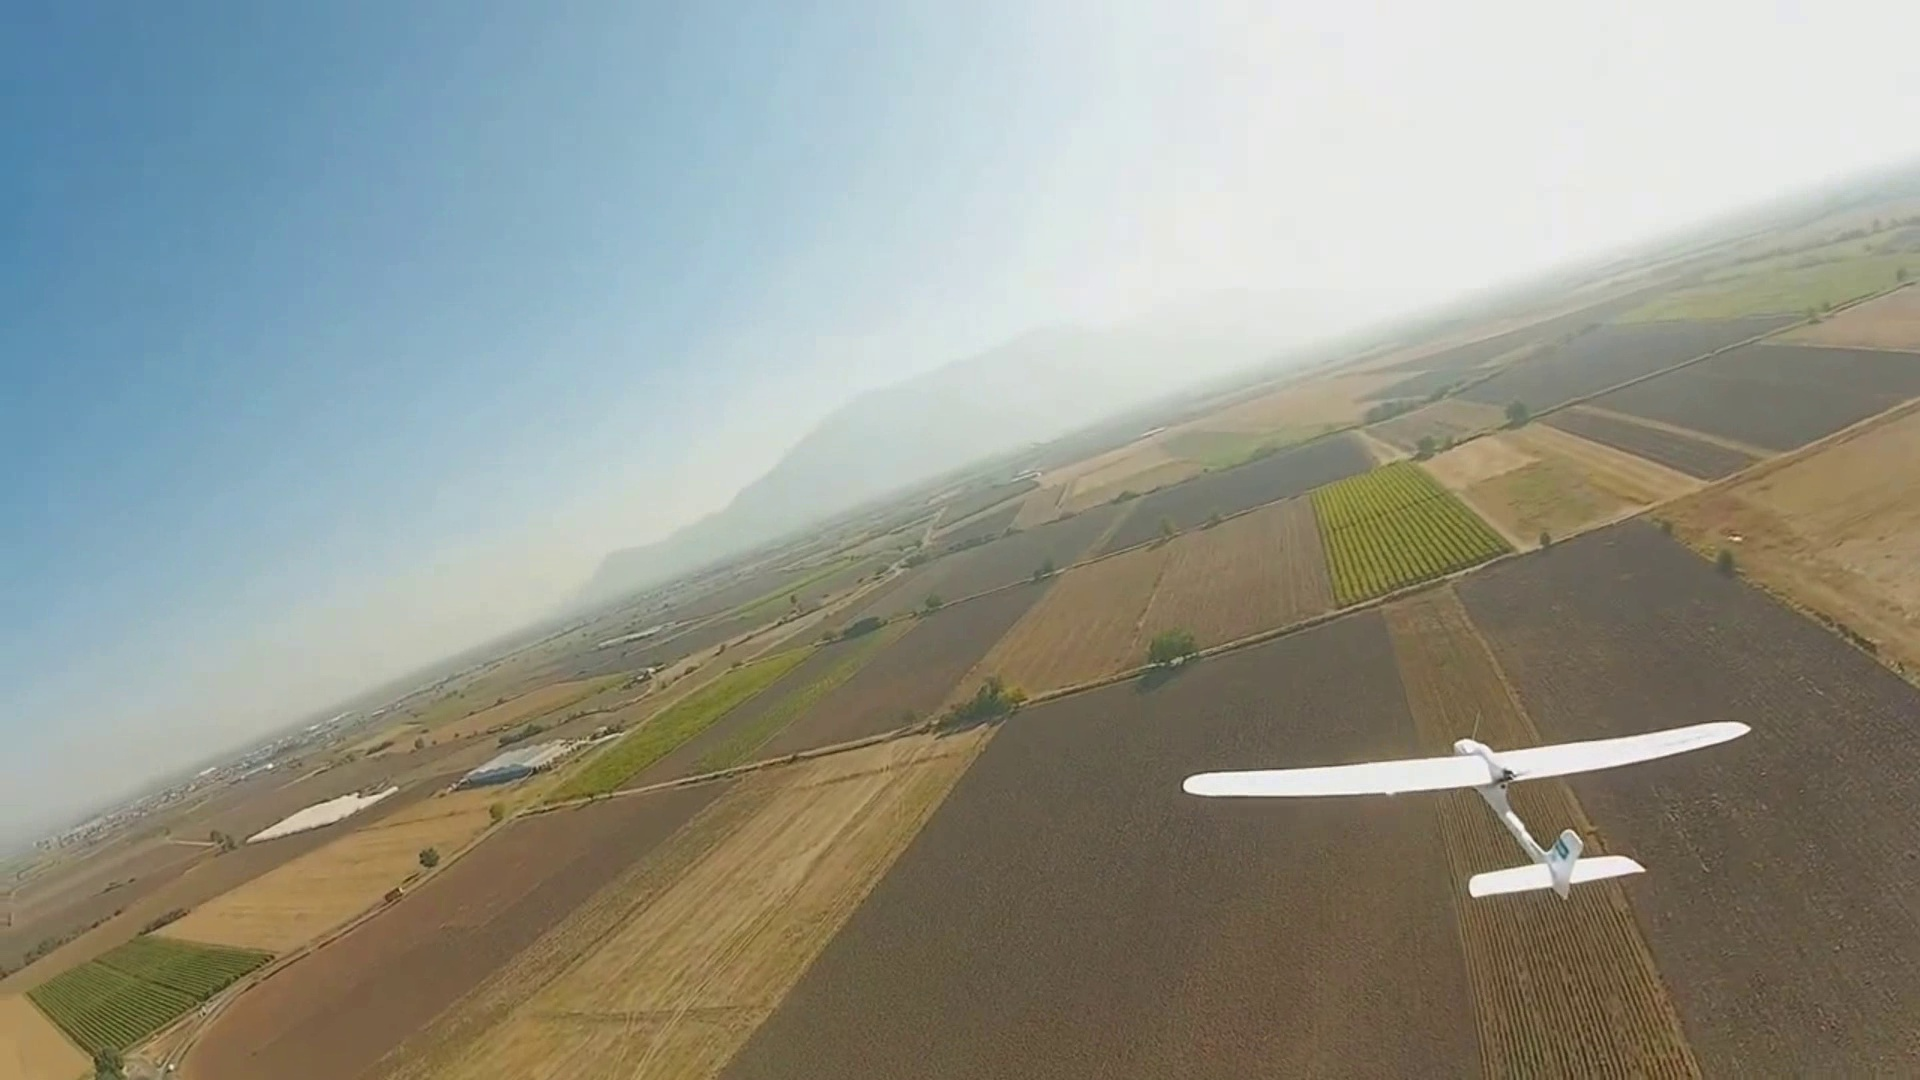airplane: (1182, 724, 1749, 895)
